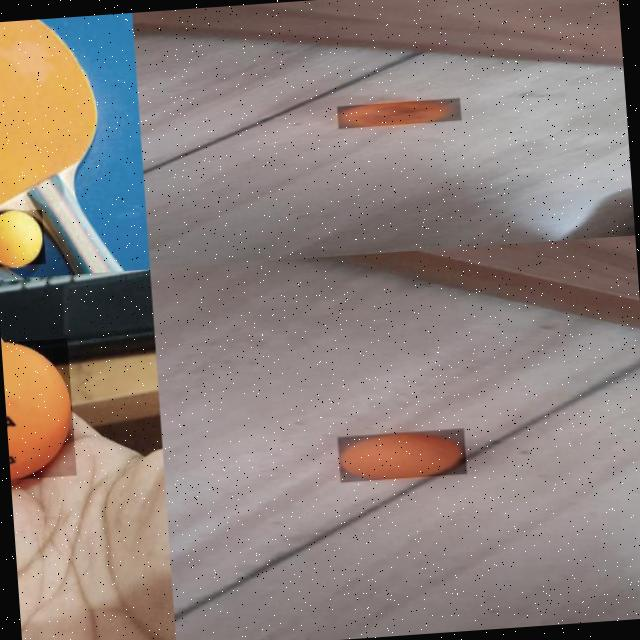ping-pong-ball: (1, 338, 76, 481), (335, 428, 467, 483), (336, 96, 462, 130), (0, 208, 45, 267)
